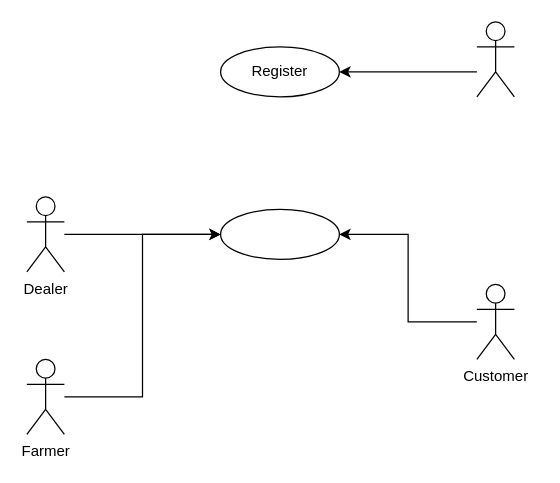
Image size: 560x483. Some labels were removed from this diagram. The centre of each missing label's shape, as x and y in pixels:
"Login" goes at (x=279, y=233).
"Unregistered User" goes at (x=495, y=59).
